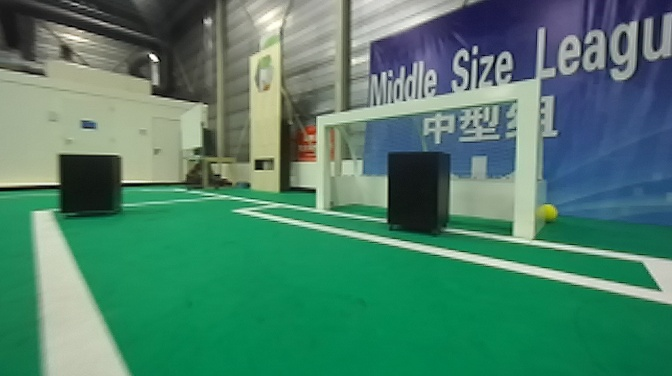ball: (537, 201, 561, 228)
goalpost: (513, 81, 544, 243), (316, 116, 332, 215)
